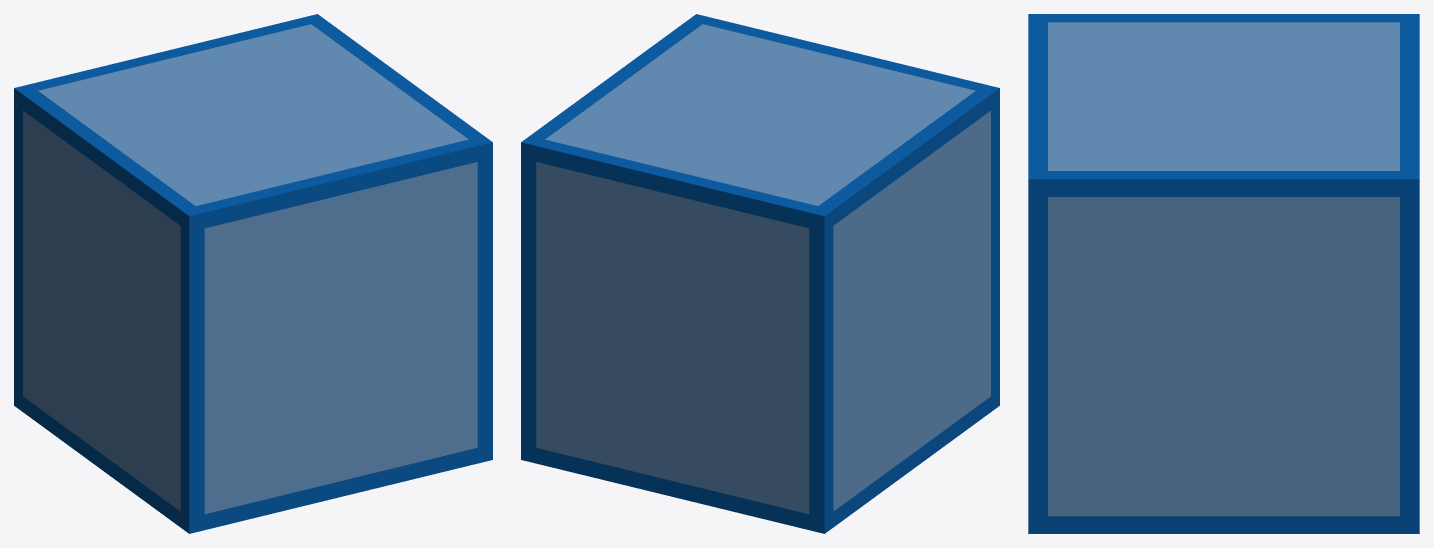
File: floorBlue.obj
The picture shows the model from 3 angles, left to right: view 1: azimuth 30°, elevation 25°; view 2: azimuth 150°, elevation 25°; view 3: azimuth 270°, elevation 25°; orthographic projection. The views are drawn at different scales.
Bounding box in the file's own units: 4 × 4 × 4.
Materials: 1 (1 with a texture image).
